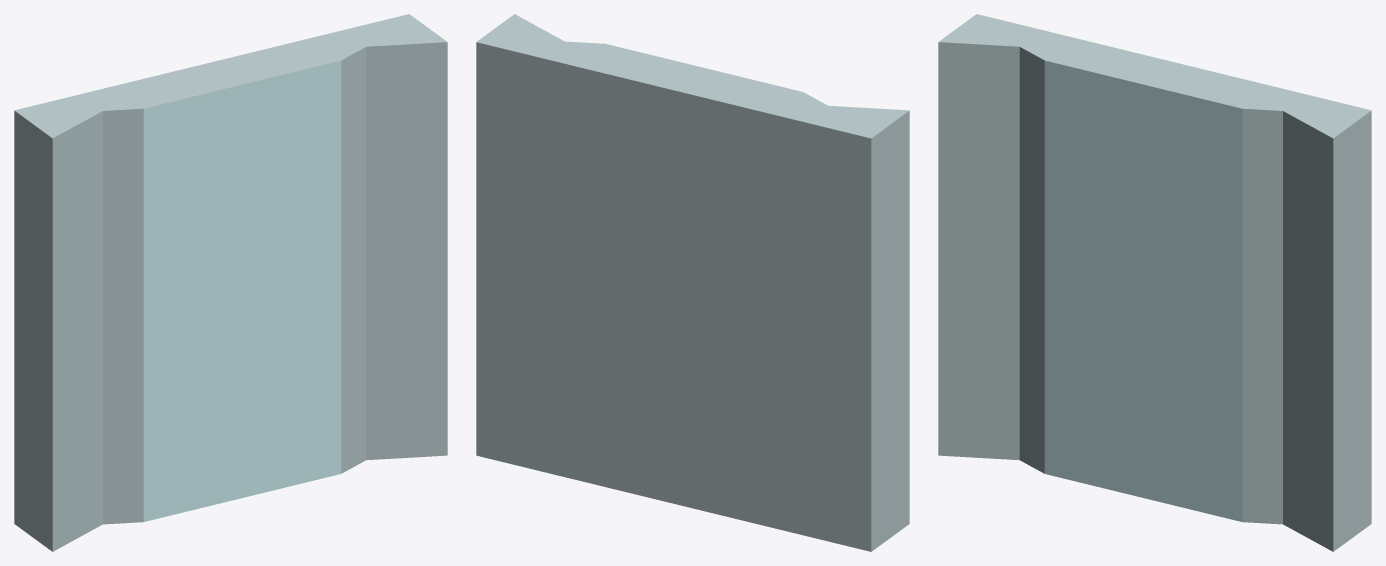
Rendered from cliff_waterfall_stone.gltf.
3 views of the same model, side by side, from view 1: azimuth 30°, elevation 25°; view 2: azimuth 150°, elevation 25°; view 3: azimuth 330°, elevation 25° (orthographic).
Parts seen in each view (by area): view 1: cliff_waterfall_stone; view 2: cliff_waterfall_stone; view 3: cliff_waterfall_stone.
Boxes of the visible parts, x1,y1,x2,y2 form: cliff_waterfall_stone: (14,14,447,551); cliff_waterfall_stone: (476,14,909,551); cliff_waterfall_stone: (938,14,1371,551).
Size of the model in its own units: 1 by 1 by 0.1685.
